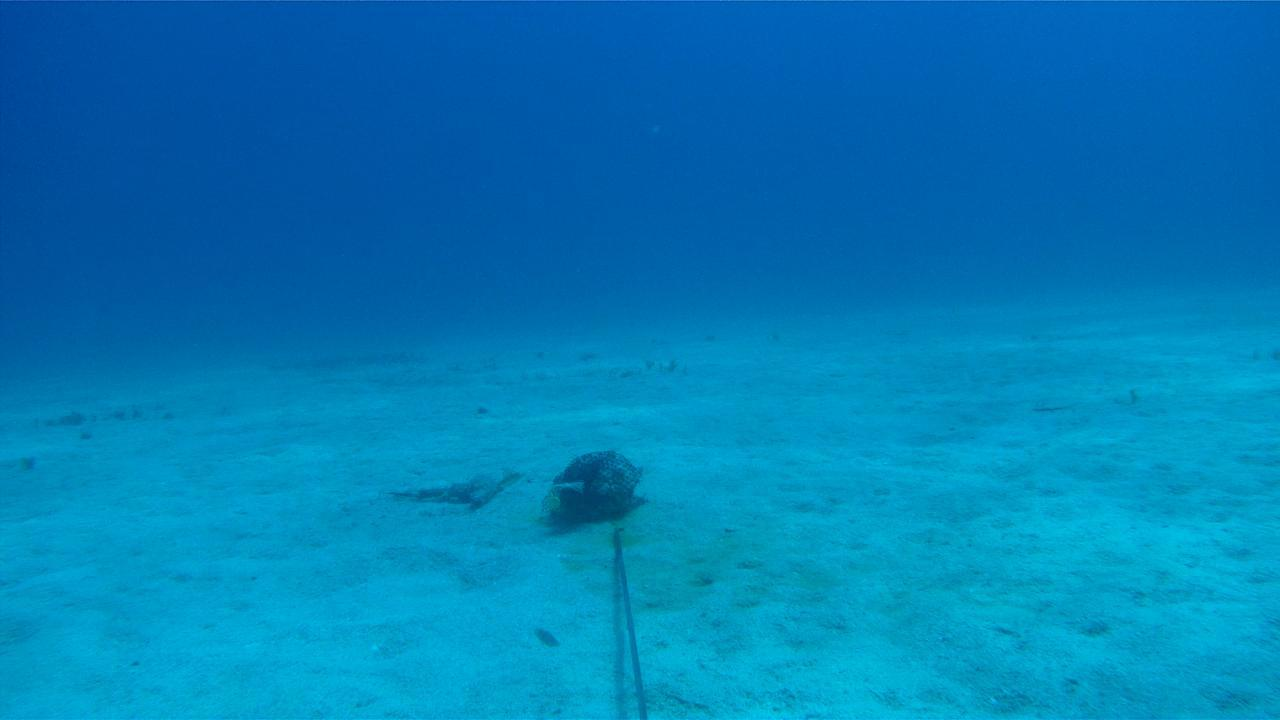bothus: (1029, 394, 1078, 413)
